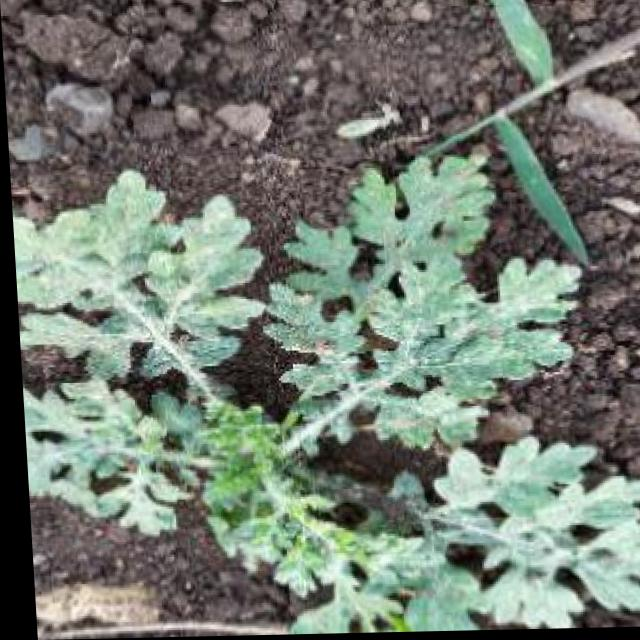weed: (3, 49, 613, 639)
